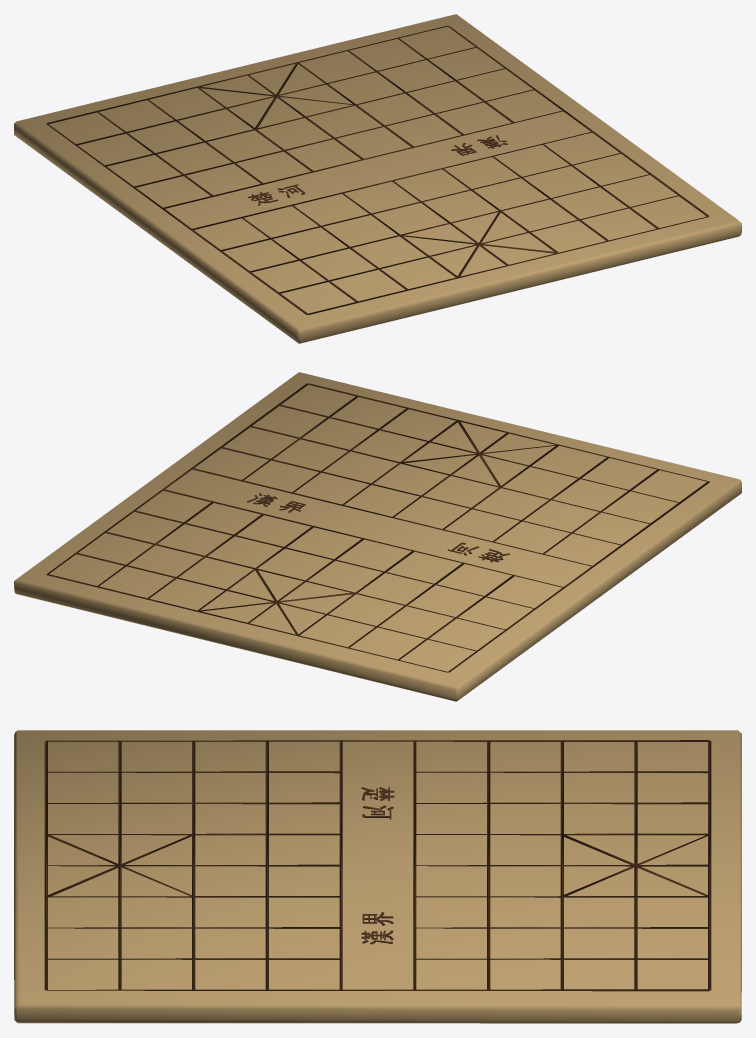
The model's file is ban_co_go.glb.
3 renders of one model, top to bottom at view 1: azimuth 30°, elevation 25°; view 2: azimuth 150°, elevation 25°; view 3: azimuth 270°, elevation 25°, orthographic. The views are drawn at different scales.
Parts seen in each view (by area): view 1: ban_co_go; view 2: ban_co_go; view 3: ban_co_go.
Part boxes in pixels (bbox=[...]): ban_co_go: bbox=[14, 14, 741, 343]; ban_co_go: bbox=[14, 372, 741, 701]; ban_co_go: bbox=[14, 730, 741, 1023].
Size of the model in its own units: 0.3995 by 0.0148 by 0.4444.
